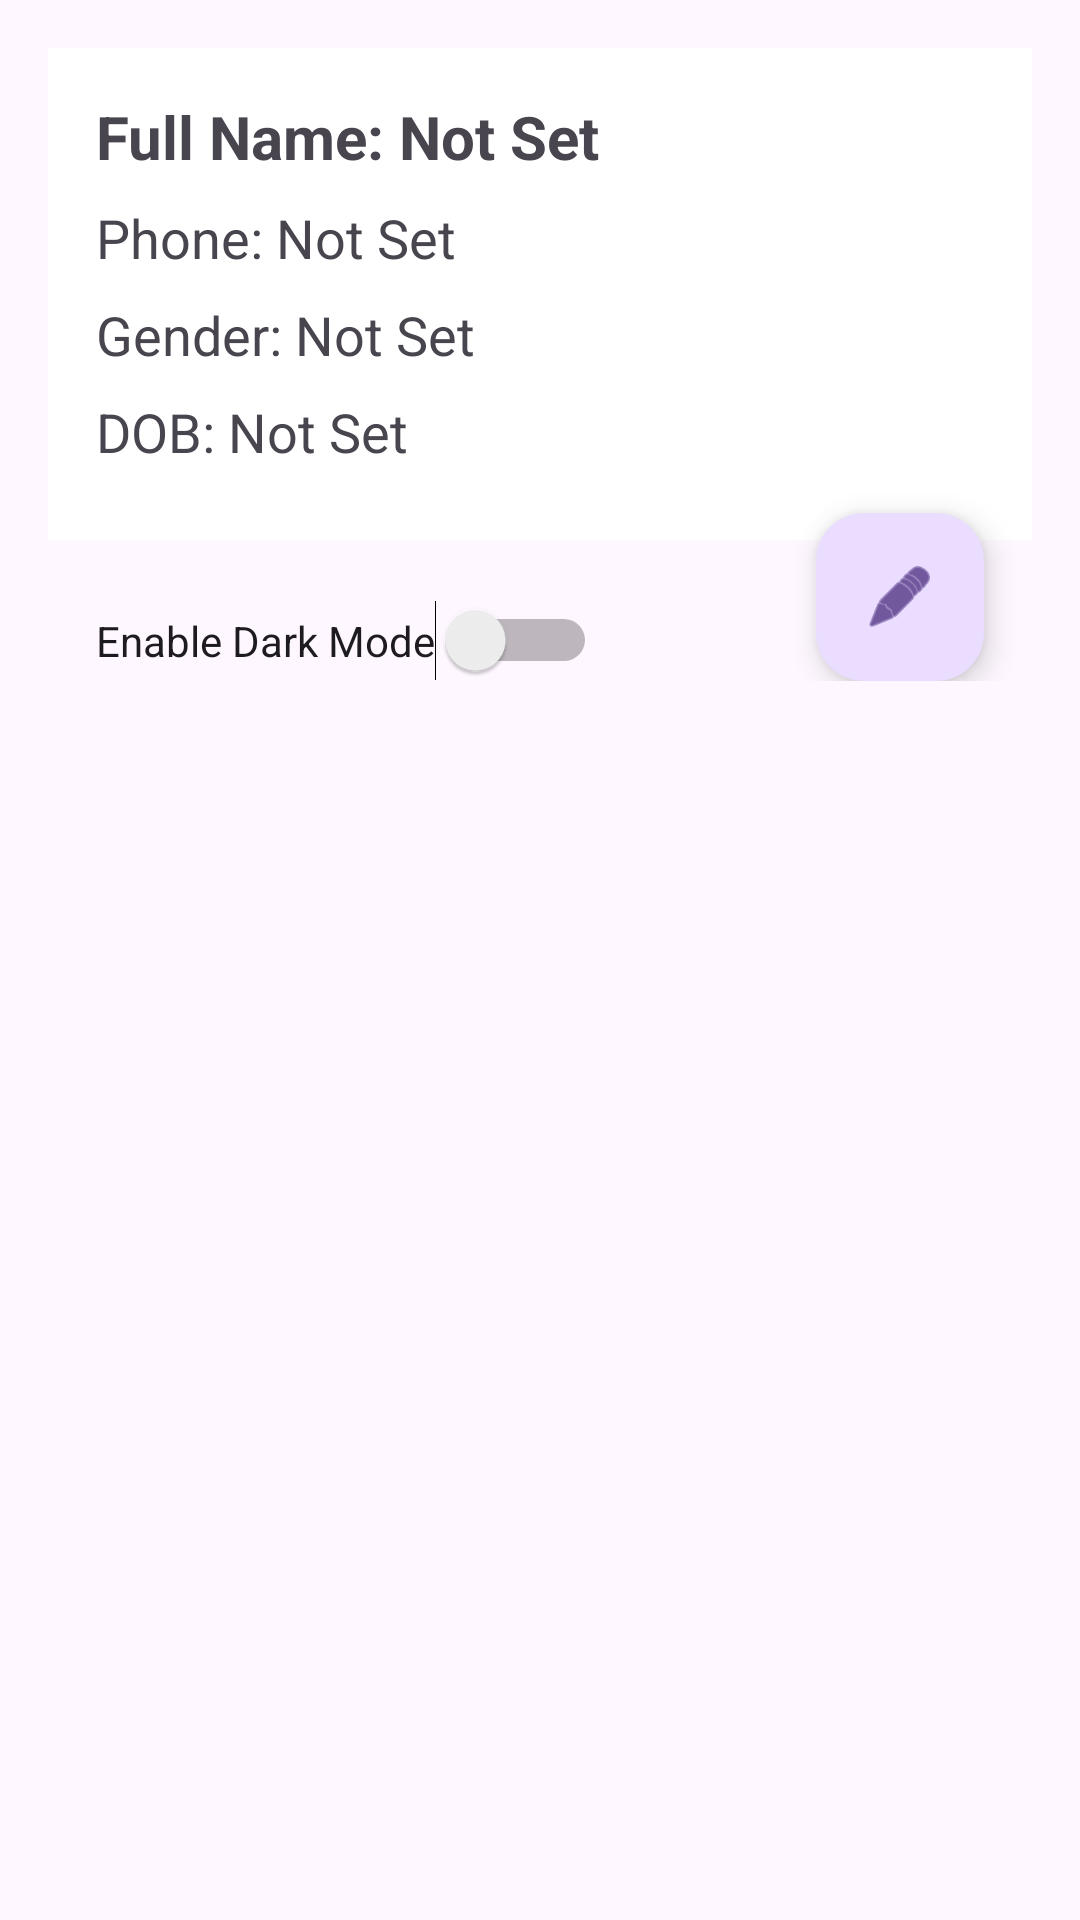

Icon click points for this 1080px×1920px phone screenshot, format (x=x, y=y):
edit: (x=900, y=597)
